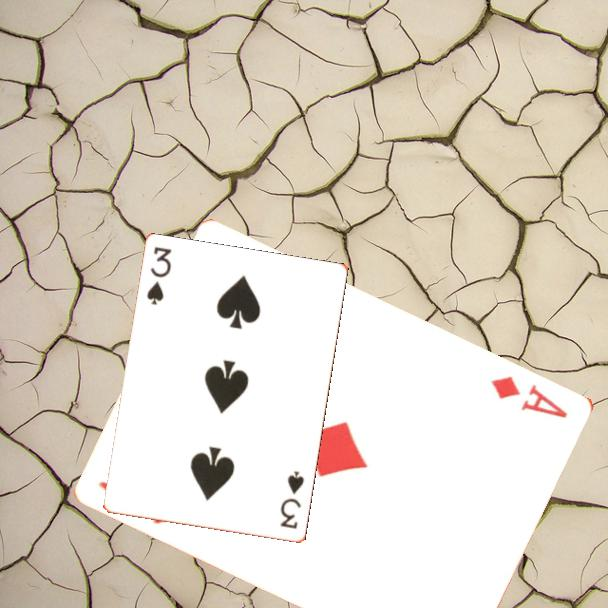d01: (487, 372, 571, 421)
s03: (143, 244, 175, 308), (277, 468, 307, 532)
